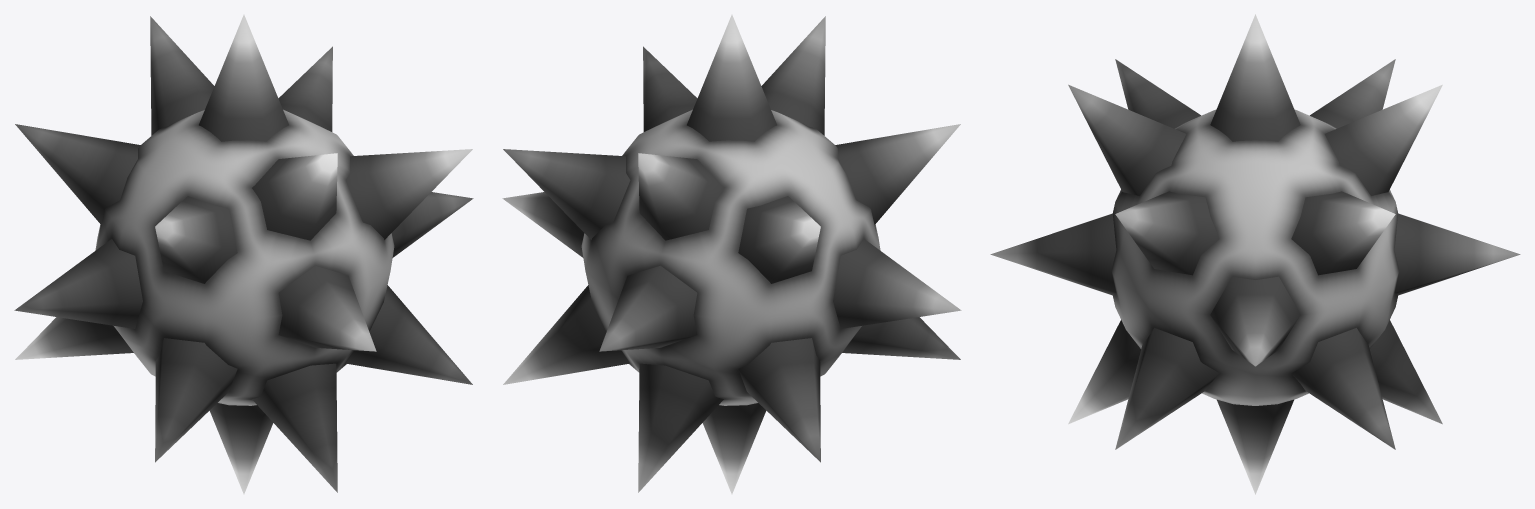
File: SpikeBall.fbx
3 views of the same model, side by side, from view 1: azimuth 30°, elevation 25°; view 2: azimuth 150°, elevation 25°; view 3: azimuth 270°, elevation 25° (orthographic).
Visible parts, largest first — view 1: SpikeBall; view 2: SpikeBall; view 3: SpikeBall.
Part boxes in pixels (x1,y1,x2,y2): SpikeBall: (14,14,473,494); SpikeBall: (502,14,961,494); SpikeBall: (990,14,1520,494).
Size of the model in its own units: 2 by 2 by 2.
